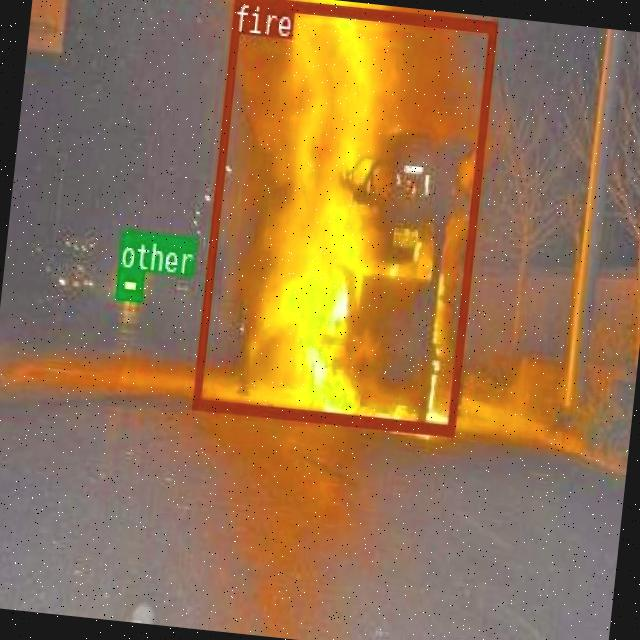fire: (192, 0, 496, 433)
